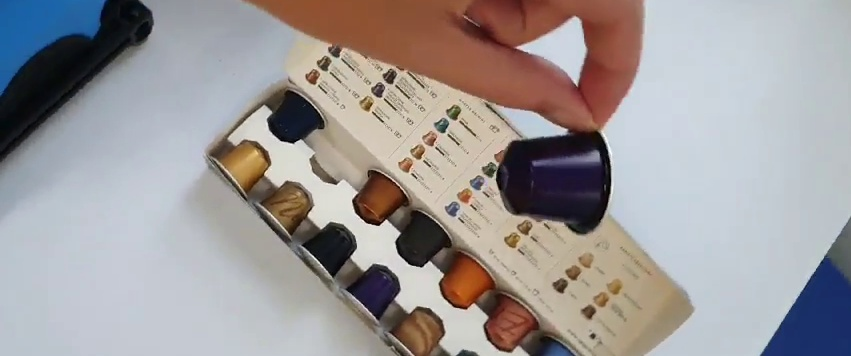capsule_2: (495, 123, 611, 240)
